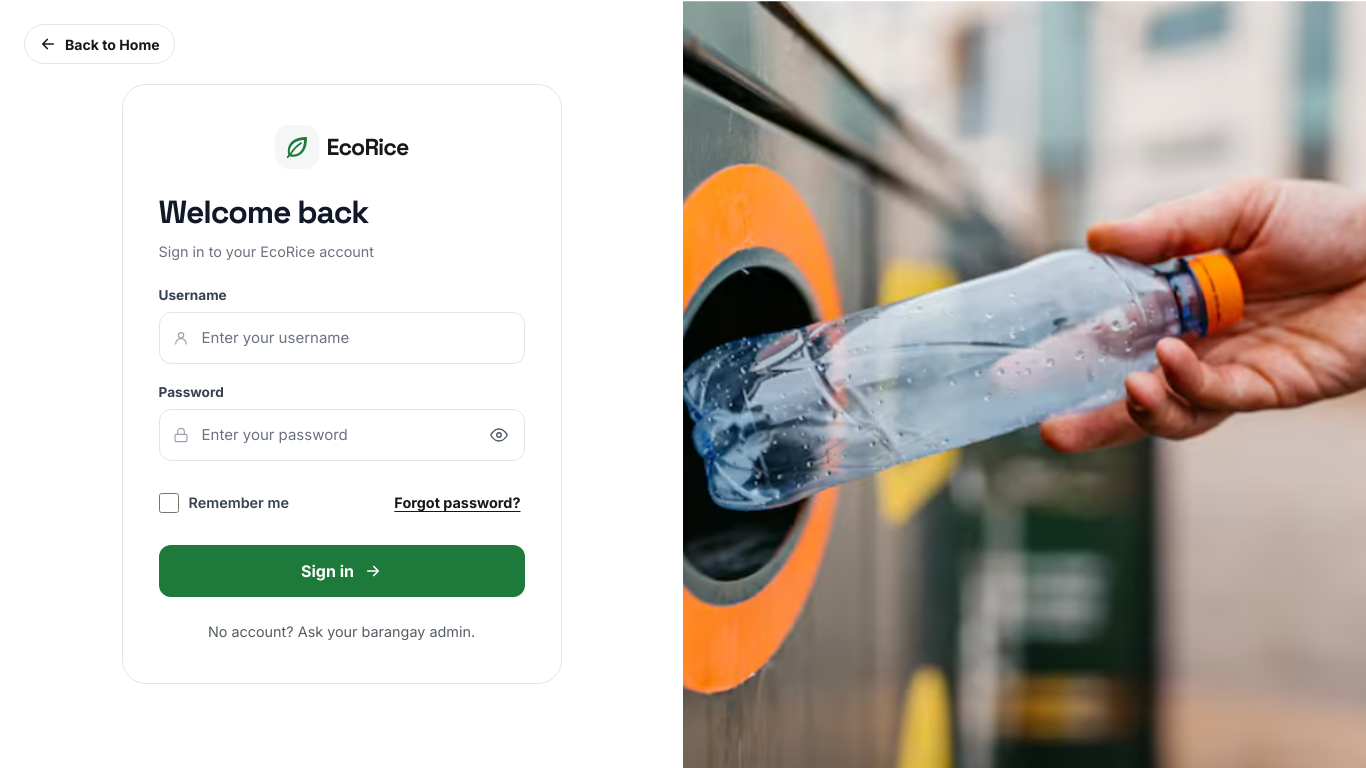
announces Can't connect. Check your internet and try again.
Type "juan" into the field labelled "Username".
click(342, 338); type("juan")  # box [158,312,524,364]
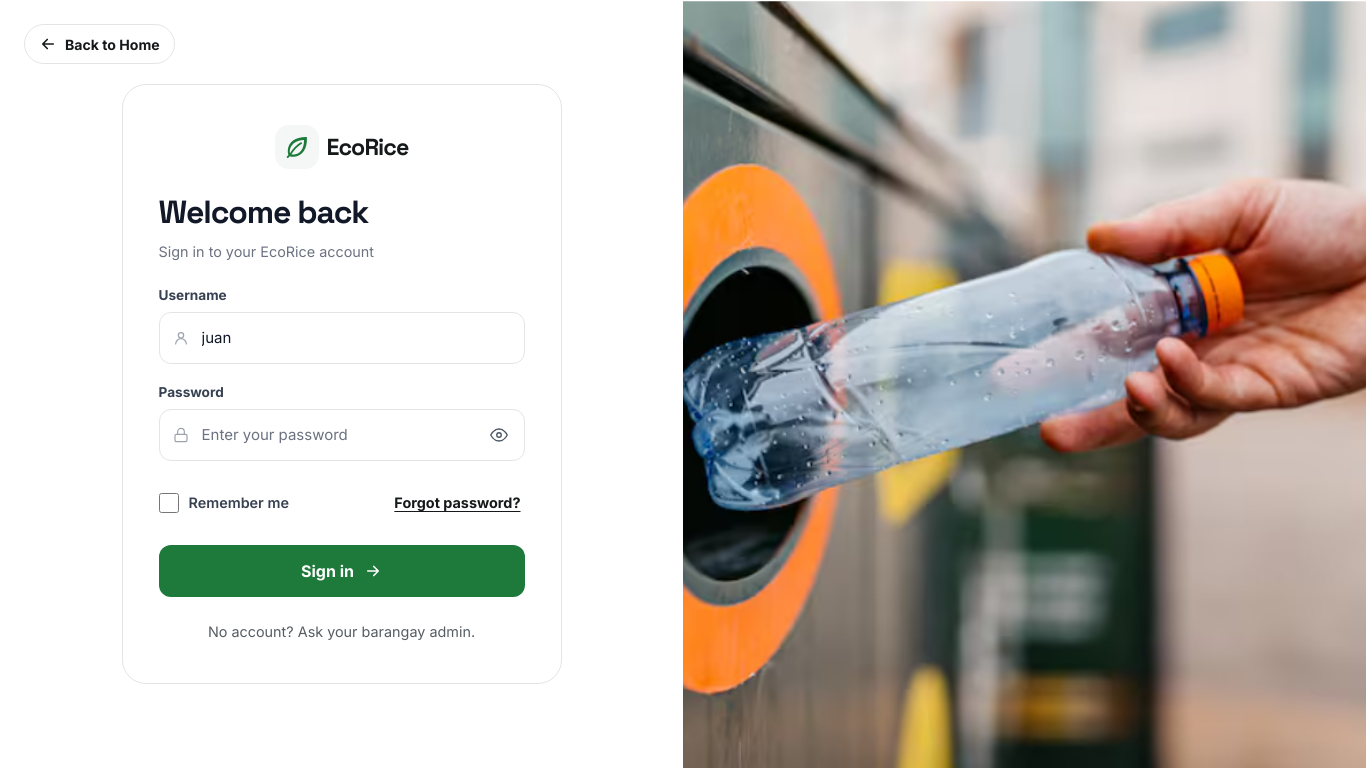
Type "test-only-pass" into the password field labelled "Password".
click(342, 435); type("test-only-pass")  # box [158,409,524,461]
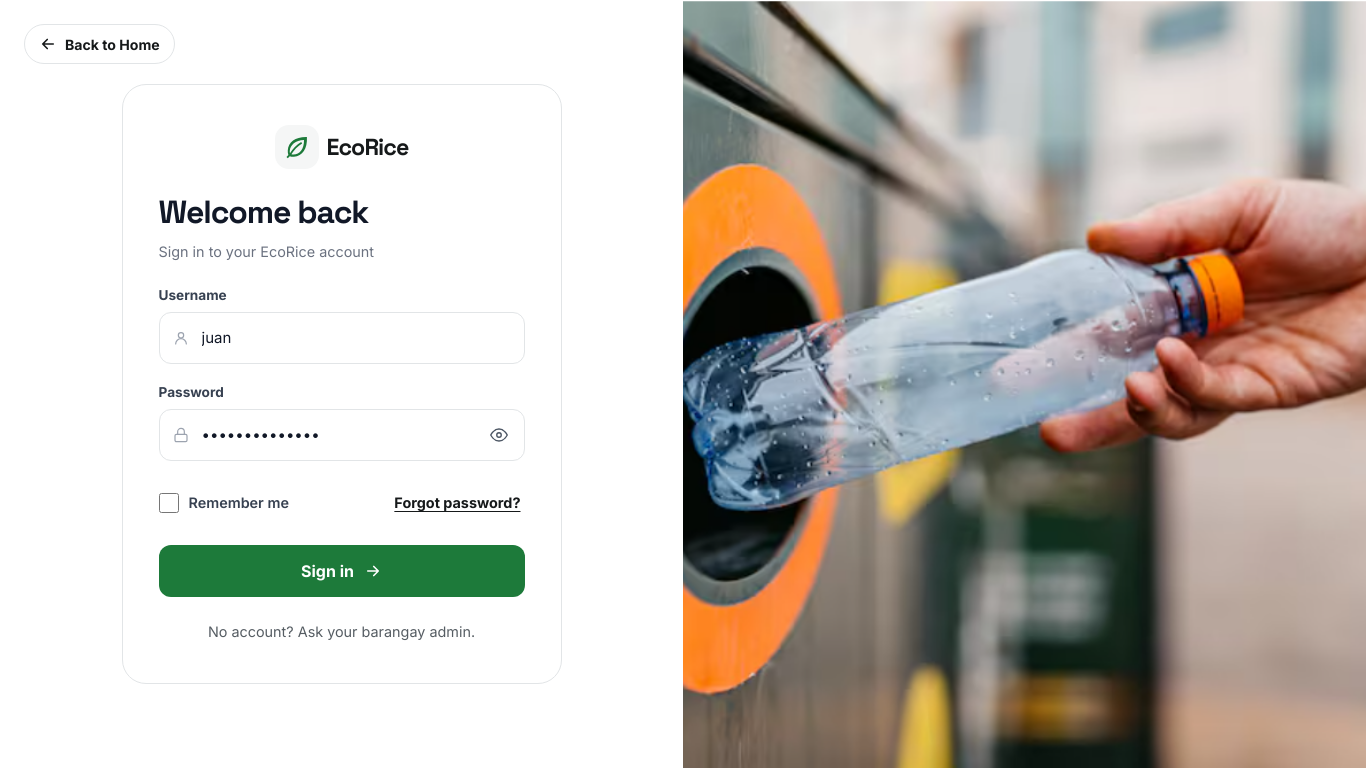
Click the button "Sign in".
click(342, 571)  # box [158,545,524,597]
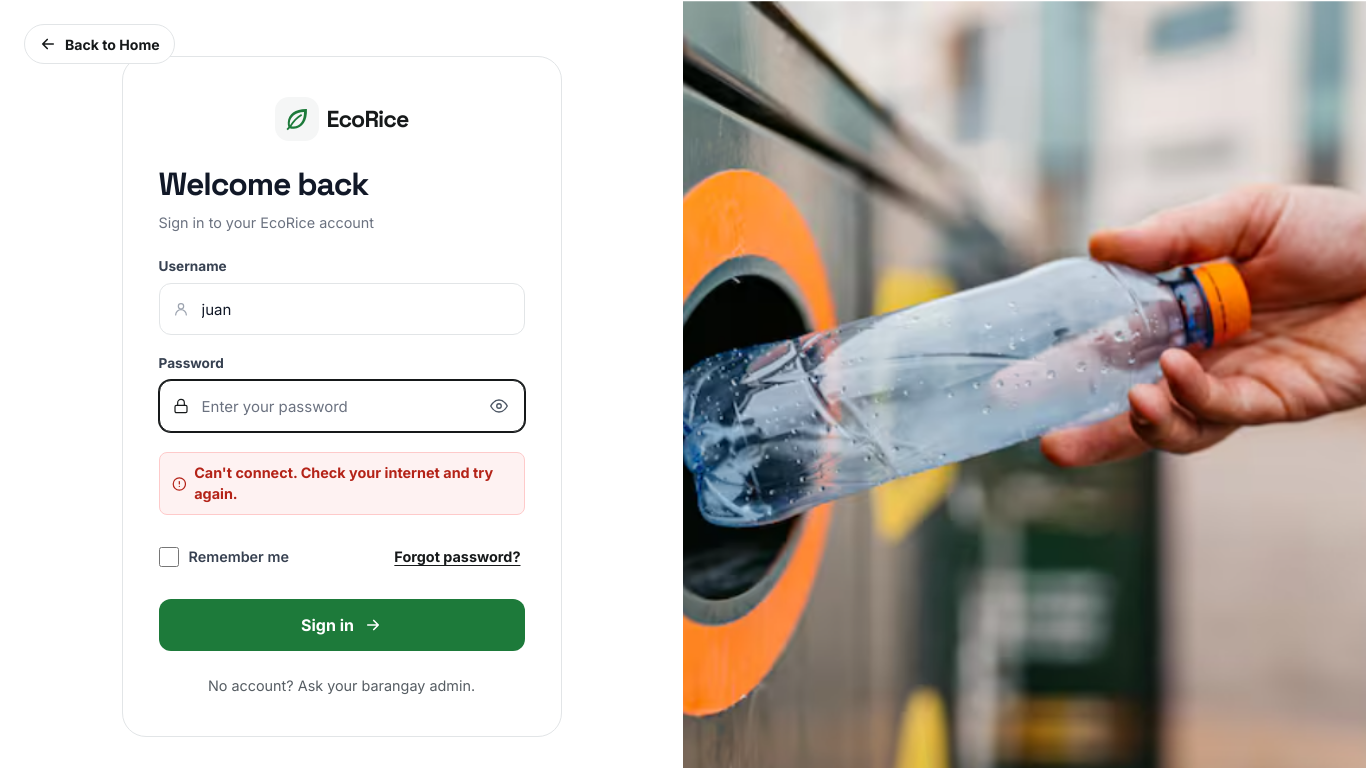
Expected: the message reads "Can't connect. Check your internet and try again.", [194,464,493,502]
